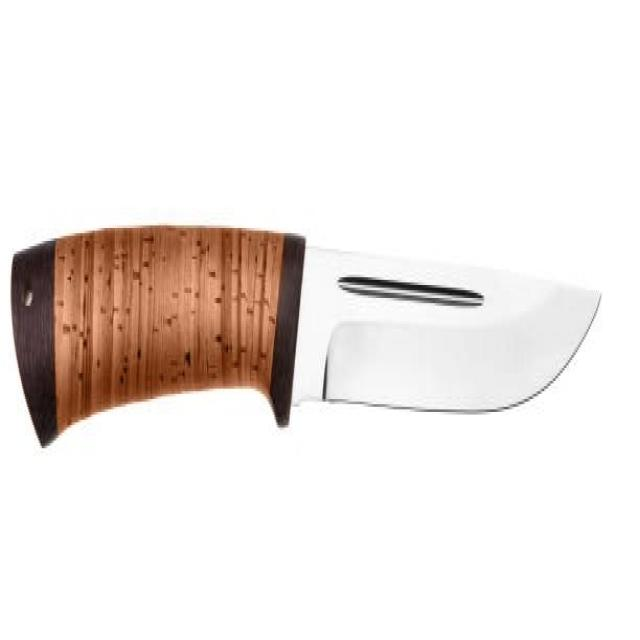knife: (7, 220, 605, 465)
